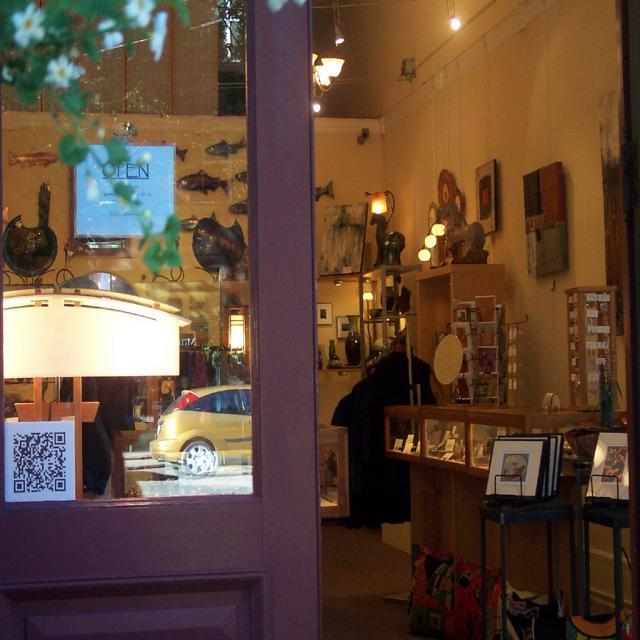qrcode: (14, 433, 66, 493)
